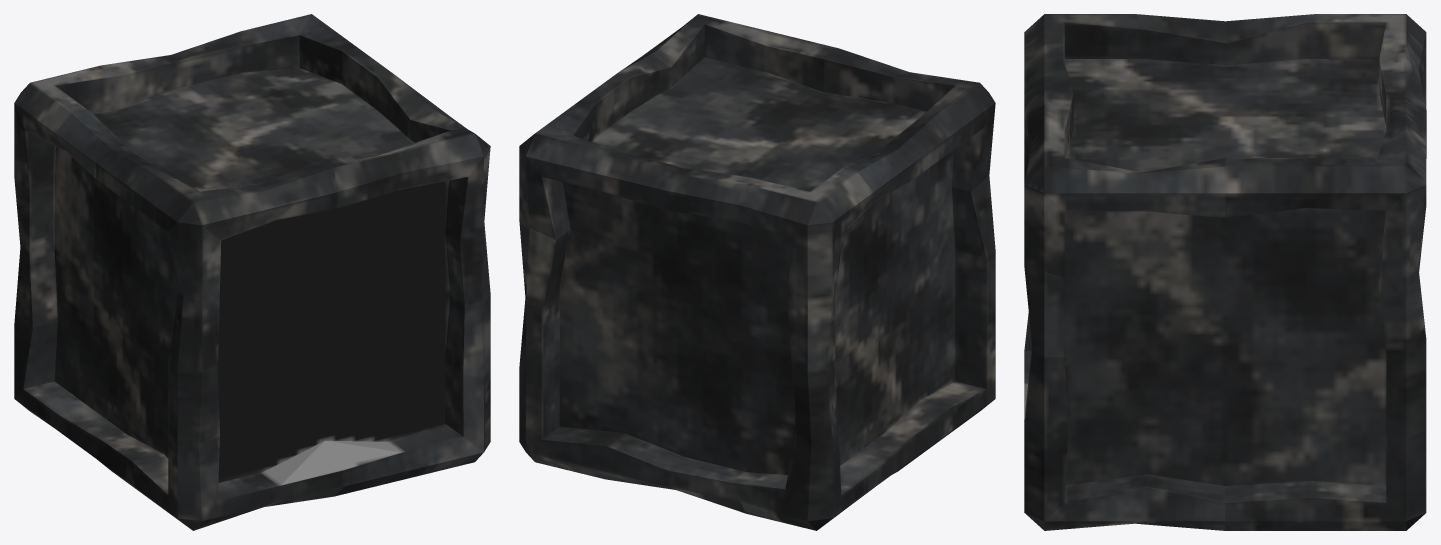
Rendered from Black Marble Drawer.fbx.
3 renders of one model, left to right at view 1: azimuth 30°, elevation 25°; view 2: azimuth 150°, elevation 25°; view 3: azimuth 270°, elevation 25°, orthographic. The views are drawn at different scales.
Visible parts, largest first — view 1: Cube; view 2: Cube; view 3: Cube.
Part boxes in pixels (x1=…): Cube: x1=14, y1=14, x2=490, y2=530; Cube: x1=519, y1=14, x2=995, y2=530; Cube: x1=1024, y1=14, x2=1426, y2=530.
Size of the model in its own units: 100 by 100 by 100.
Materials: 1 (1 with a texture image).
